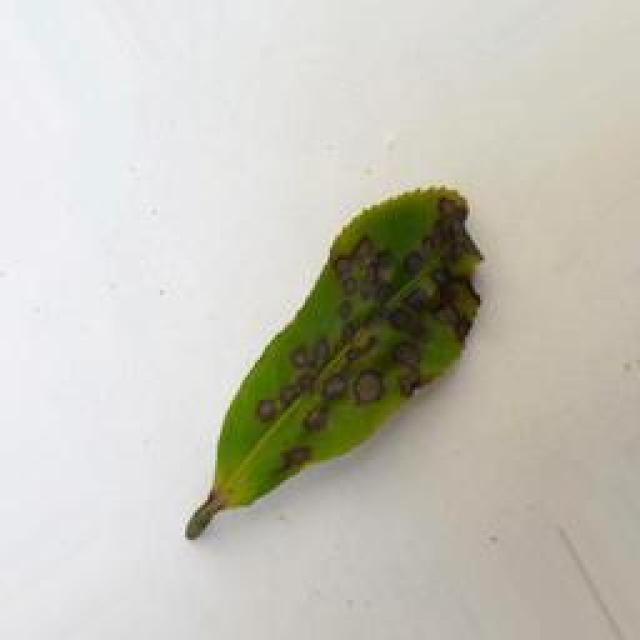Helopeltis: (185, 174, 483, 530)
